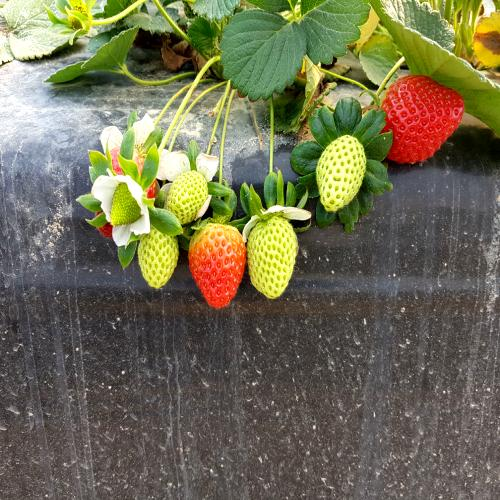ripe: (384, 75, 467, 166), (184, 218, 248, 313)
